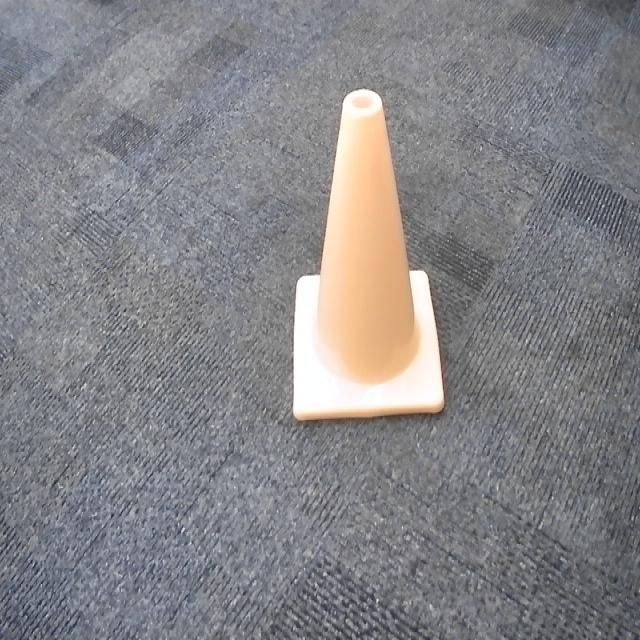cone: (292, 86, 446, 425)
